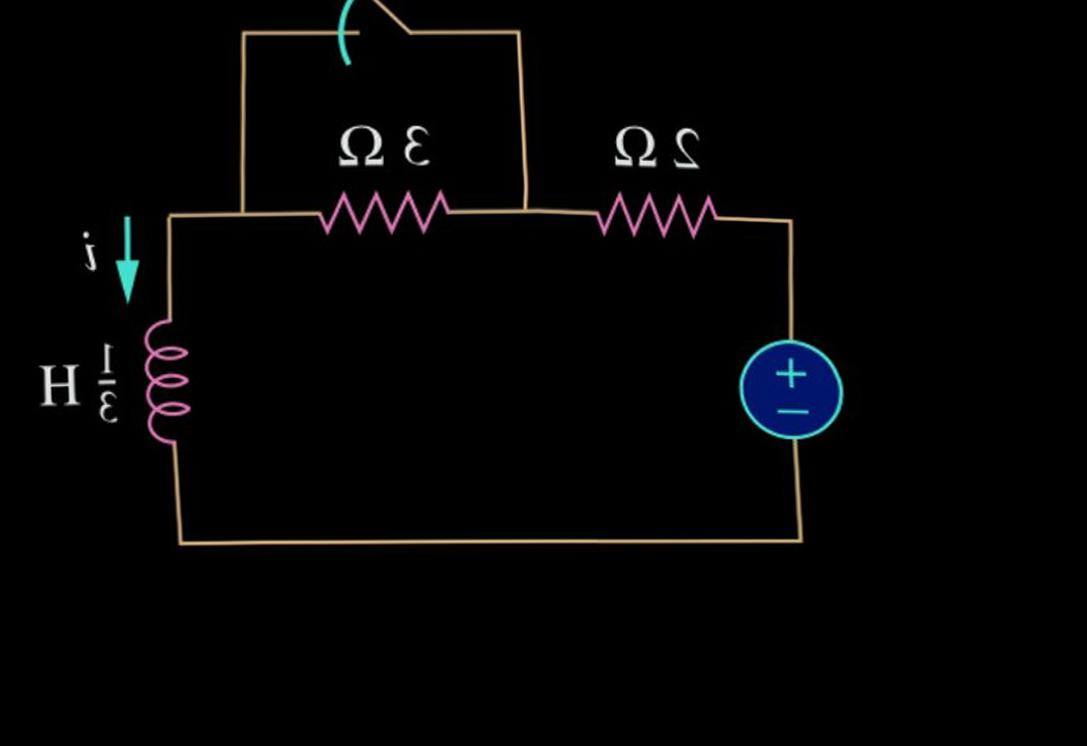Battery: (687, 308, 889, 465)
